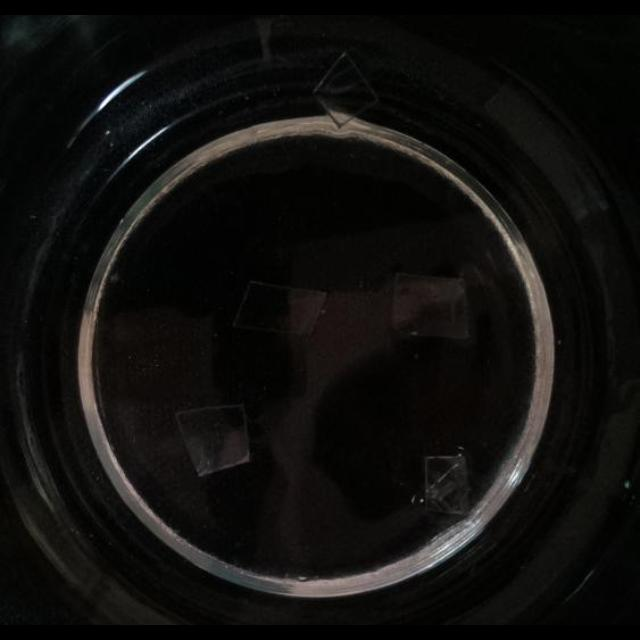Film: (173, 402, 254, 478), (233, 280, 327, 338), (390, 273, 470, 341), (315, 47, 379, 127), (416, 447, 472, 513)
